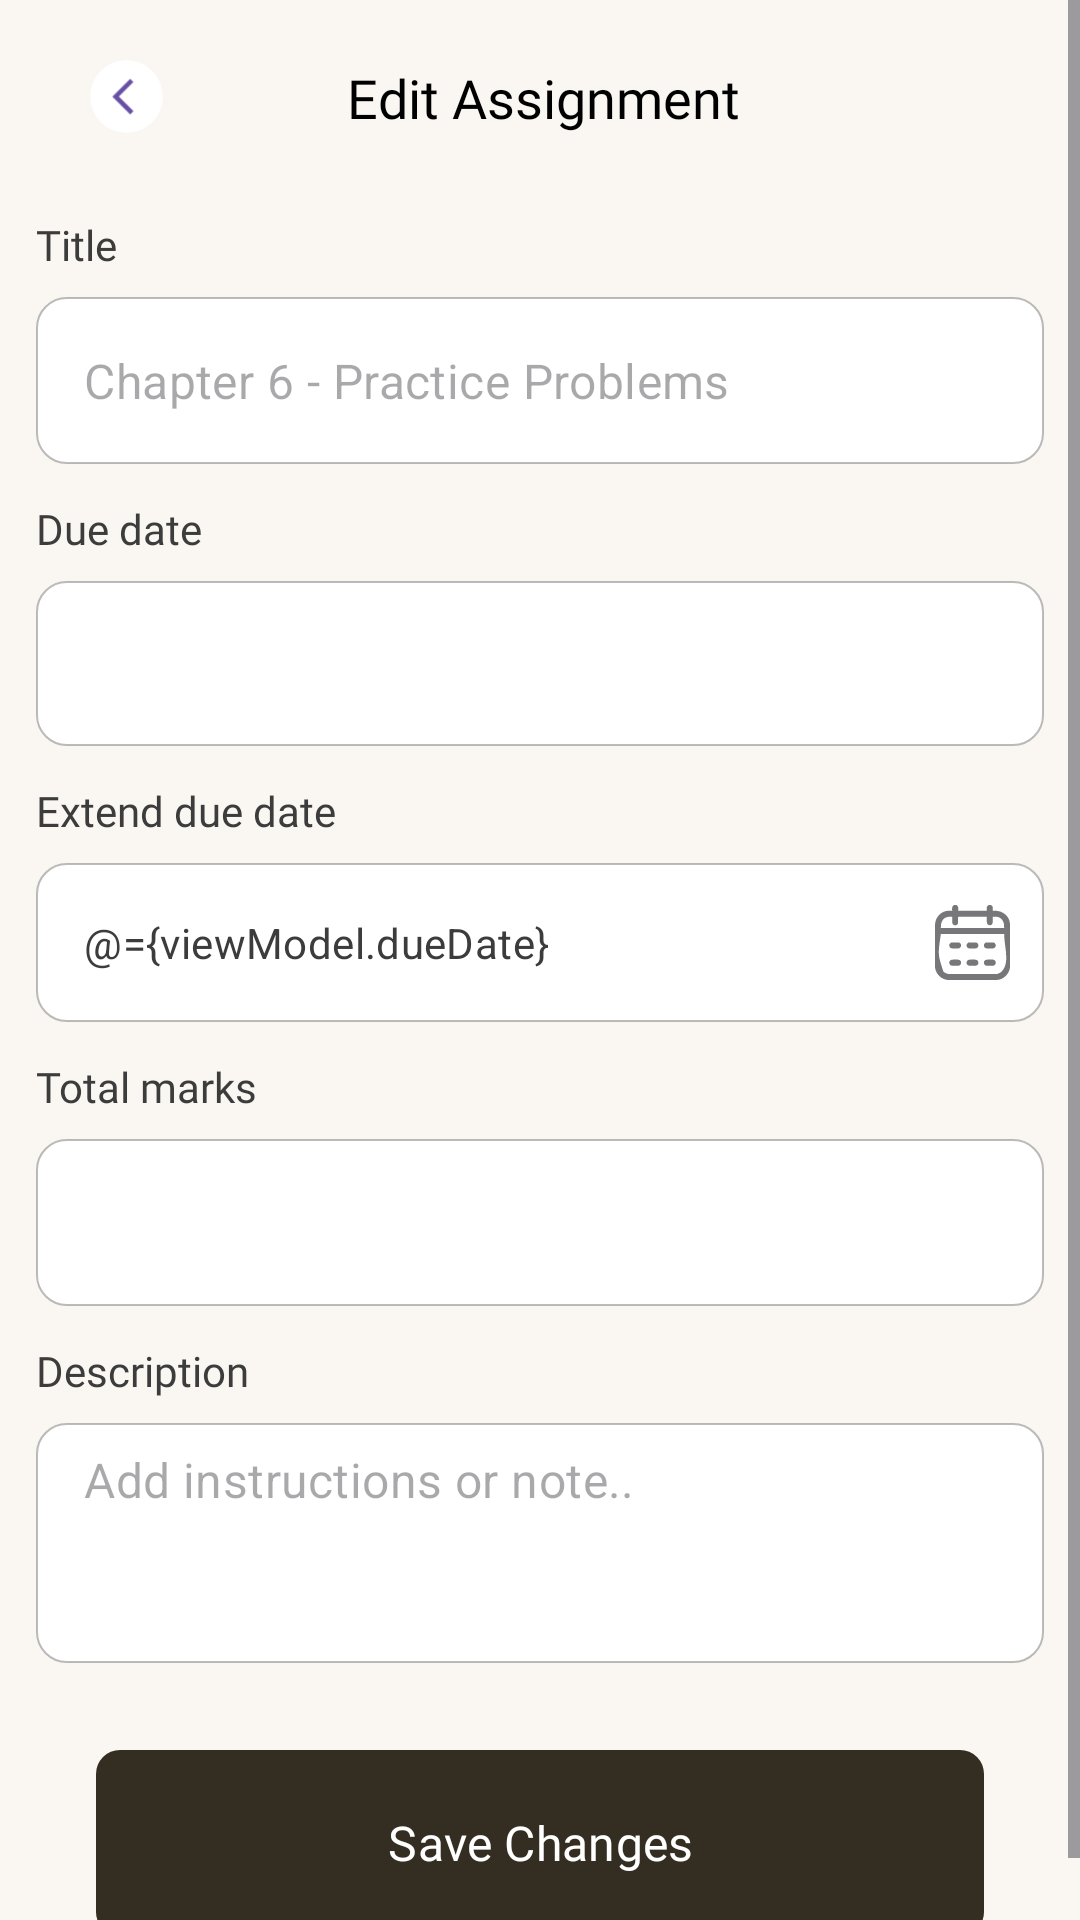

Screen size 1080×1920. Icon name, then its center in pixels as (x=x, y=y):
back: (x=126, y=96)
